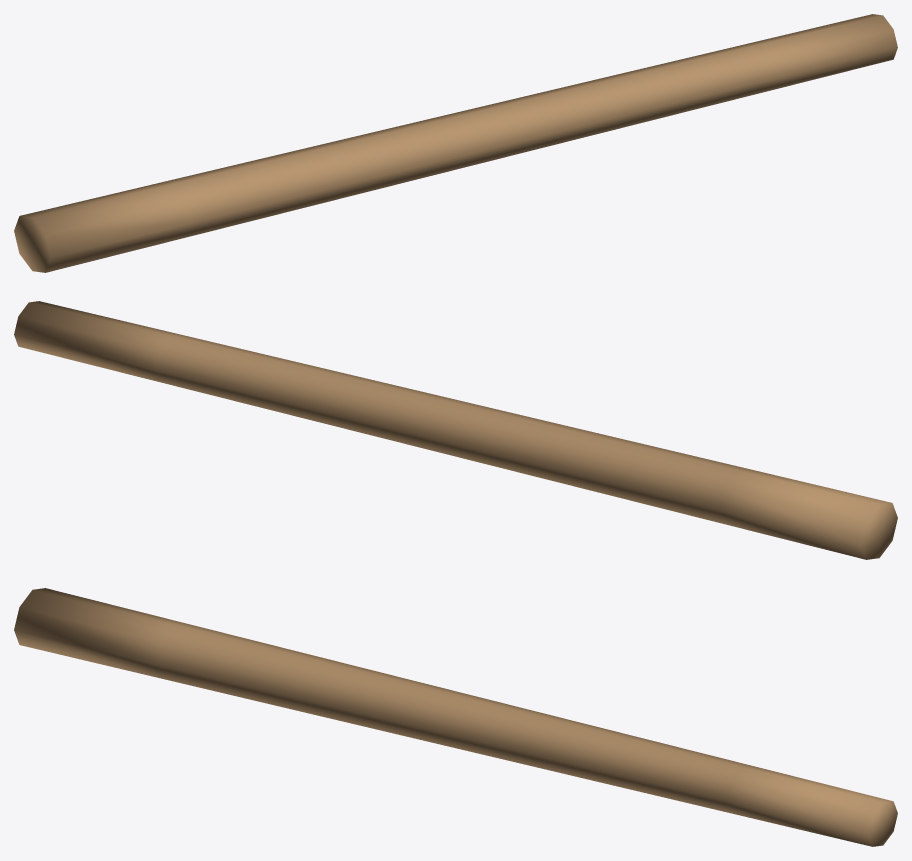
Rendered from LaserTiller.fbx.
The picture shows the model from 3 angles, top to bottom: view 1: azimuth 30°, elevation 25°; view 2: azimuth 150°, elevation 25°; view 3: azimuth 330°, elevation 25°; orthographic projection.
Parts seen in each view (by area): view 1: LaserTiller; view 2: LaserTiller; view 3: LaserTiller.
Boxes of the visible parts, box(x1,y1,x2,y2) form: LaserTiller: box(14, 14, 897, 272); LaserTiller: box(14, 301, 897, 559); LaserTiller: box(14, 588, 897, 846).
Size of the model in its own units: 66.53 by 5 by 4.
